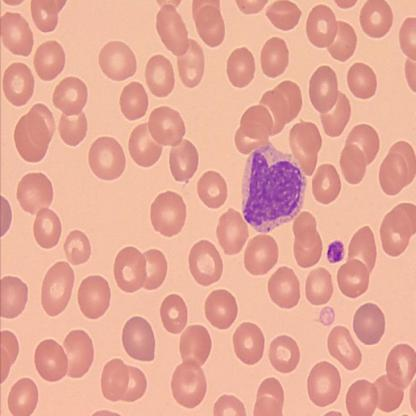Metamyelocyte: (239, 138, 307, 235)
